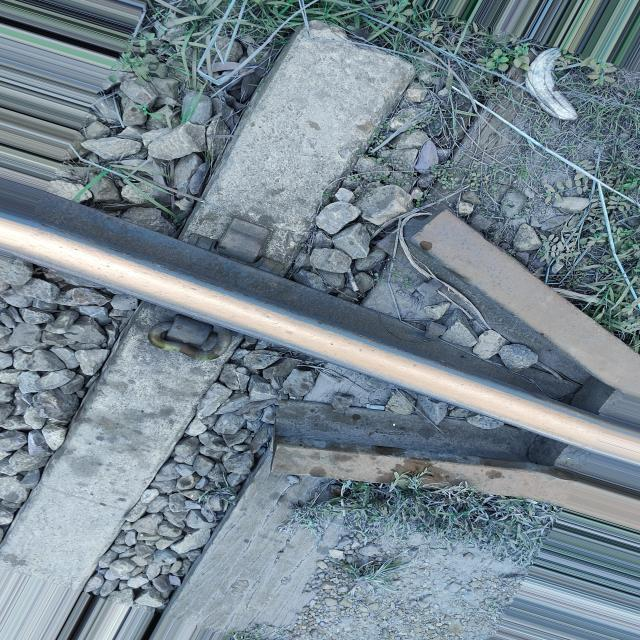Good Fasteners: (141, 314, 234, 360)
Missing Fastener: (215, 213, 272, 266)
